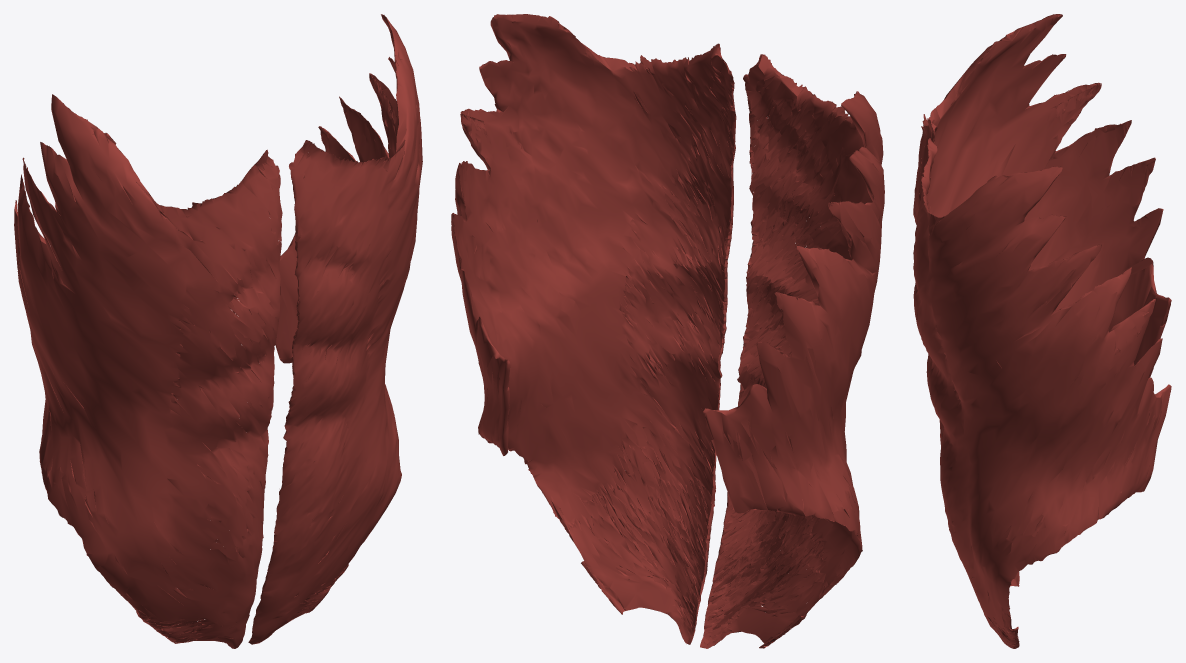
Rendered from explorar-external_oblique.glb.
The picture shows the model from 3 angles, left to right: view 1: azimuth 30°, elevation 25°; view 2: azimuth 150°, elevation 25°; view 3: azimuth 270°, elevation 25°; orthographic projection. The views are drawn at different scales.
Parts seen in each view (by area): view 1: external_oblique__superior_derecho, external_oblique__inferior_derecho, external_oblique__superior_izquierdo, external_oblique__inferior_izquierdo; view 2: external_oblique__superior_izquierdo, external_oblique__inferior_izquierdo, external_oblique__superior_derecho, external_oblique__inferior_derecho; view 3: external_oblique__superior_izquierdo, external_oblique__superior_derecho, external_oblique__inferior_izquierdo, external_oblique__inferior_derecho.
Part boxes in pixels (x1=…): external_oblique__superior_derecho: x1=14, y1=94, x2=282, y2=406; external_oblique__inferior_derecho: x1=32, y1=339, x2=274, y2=648; external_oblique__superior_izquierdo: x1=279, y1=14, x2=422, y2=382; external_oblique__inferior_izquierdo: x1=248, y1=259, x2=401, y2=644; external_oblique__superior_izquierdo: x1=451, y1=14, x2=736, y2=384; external_oblique__inferior_izquierdo: x1=475, y1=281, x2=727, y2=644; external_oblique__superior_derecho: x1=703, y1=54, x2=884, y2=437; external_oblique__inferior_derecho: x1=700, y1=301, x2=862, y2=648; external_oblique__superior_izquierdo: x1=913, y1=138, x2=1171, y2=440; external_oblique__superior_derecho: x1=913, y1=14, x2=1171, y2=316; external_oblique__inferior_izquierdo: x1=926, y1=371, x2=1171, y2=648; external_oblique__inferior_derecho: x1=939, y1=271, x2=1169, y2=586.
Size of the model in its own units: 0.2773 by 0.4184 by 0.1801.
